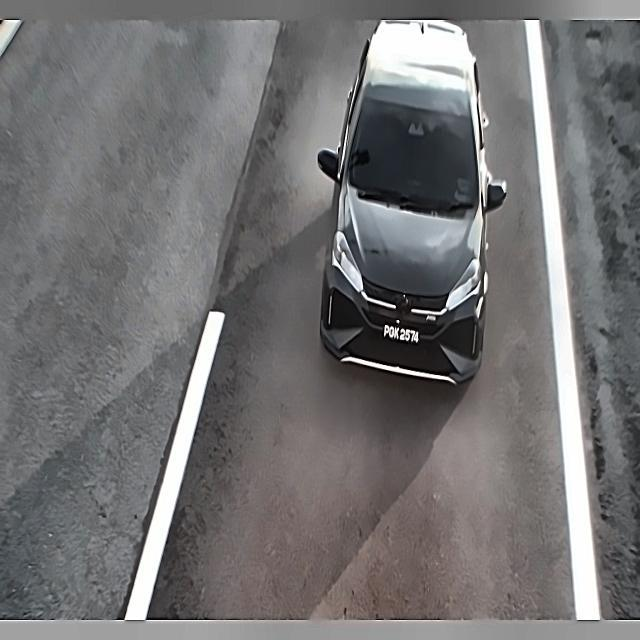car: (379, 318, 428, 357)
